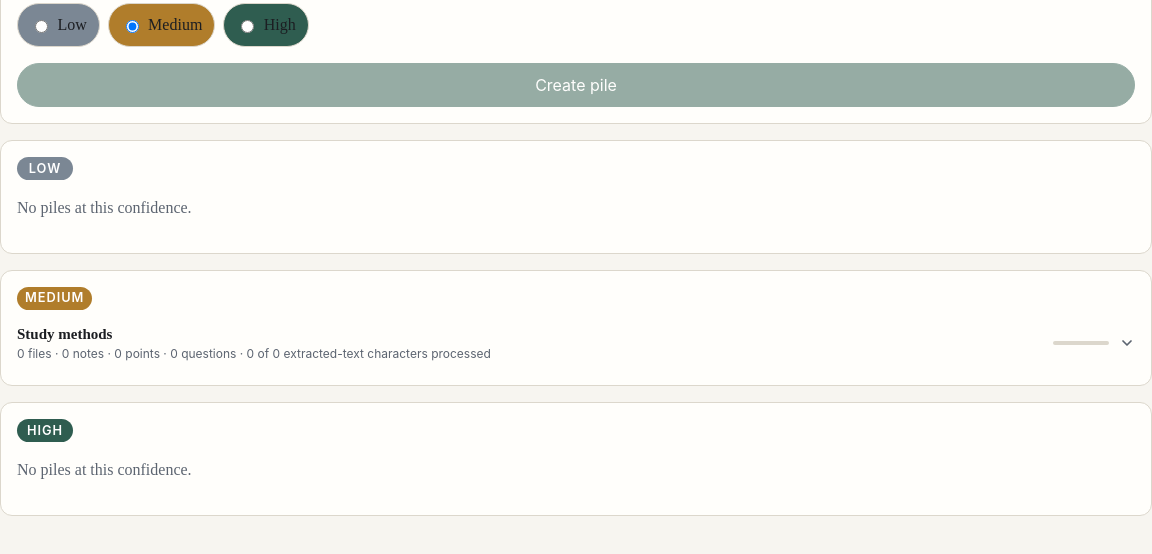
deliberate source intake and Build consent › copies a saved note to a local text source only on explicit choice and keeps the note
This screenshot has width=1152, height=554.
Click the button "Study methods" at (65, 334), box [17,318,1135,369]
(page scrolled)
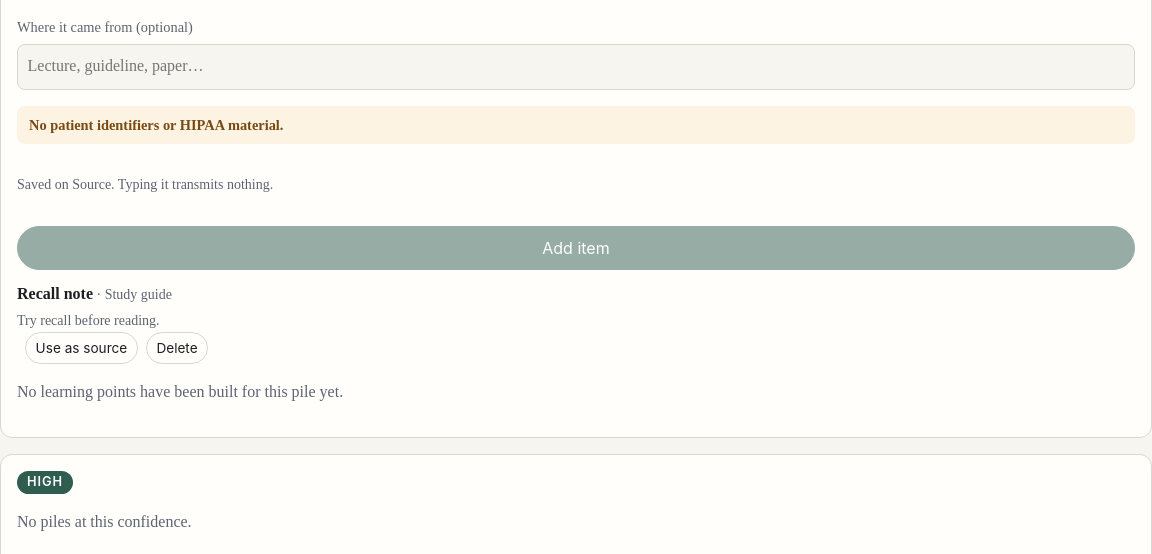
Click the button "Use as source" at (81, 348), box [25,332,138,364]
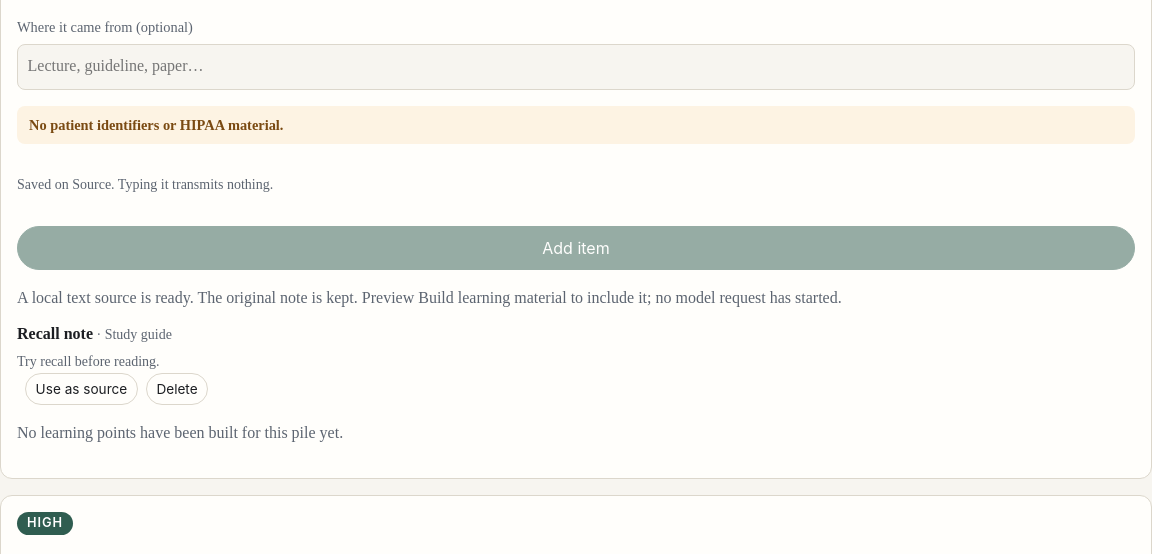
Expected: the text "Recall note" is shown, [17,325,93,342]
Expected: the message shows "original note is kept", [17,288,842,306]
